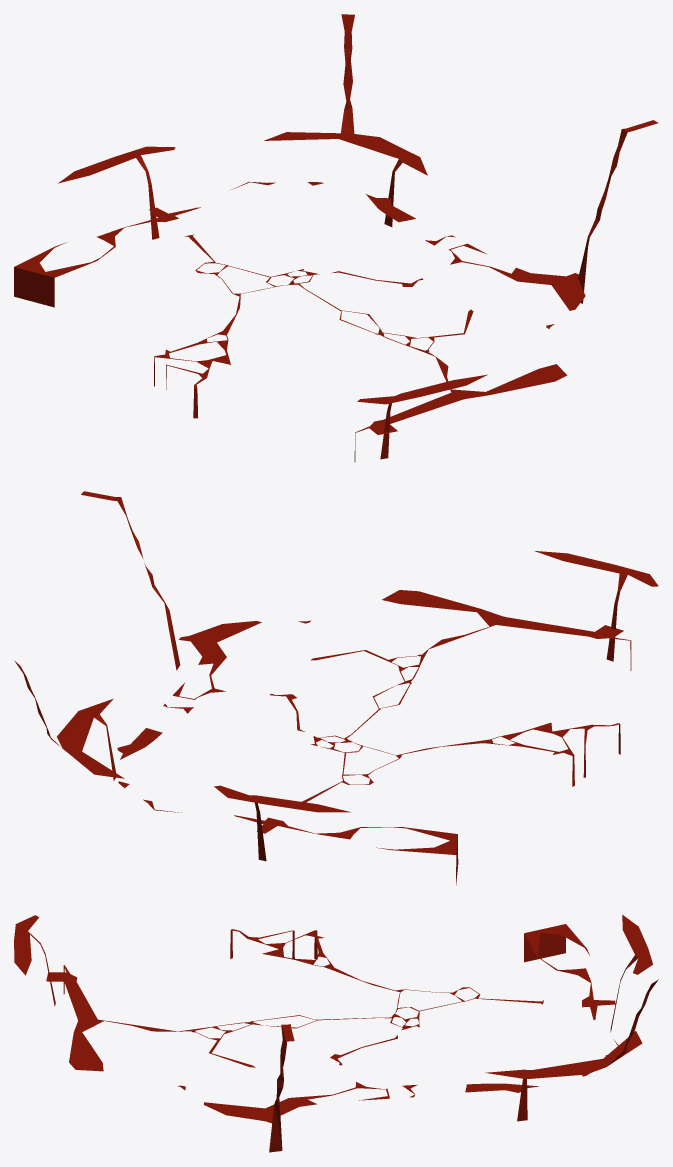
The model's file is Lava_01.FBX.
3 renders of one model, top to bottom at view 1: azimuth 30°, elevation 25°; view 2: azimuth 150°, elevation 25°; view 3: azimuth 270°, elevation 25°, orthographic. The views are drawn at different scales.
Visible parts, largest first — view 1: Lava_01; view 2: Lava_01; view 3: Lava_01.
Part boxes in pixels (x1,y1,x2,y2): Lava_01: (14,14,658,462); Lava_01: (14,491,658,884); Lava_01: (14,915,658,1152).
Bounding box in the file's own units: 24.98 × 7.42 × 28.23.
